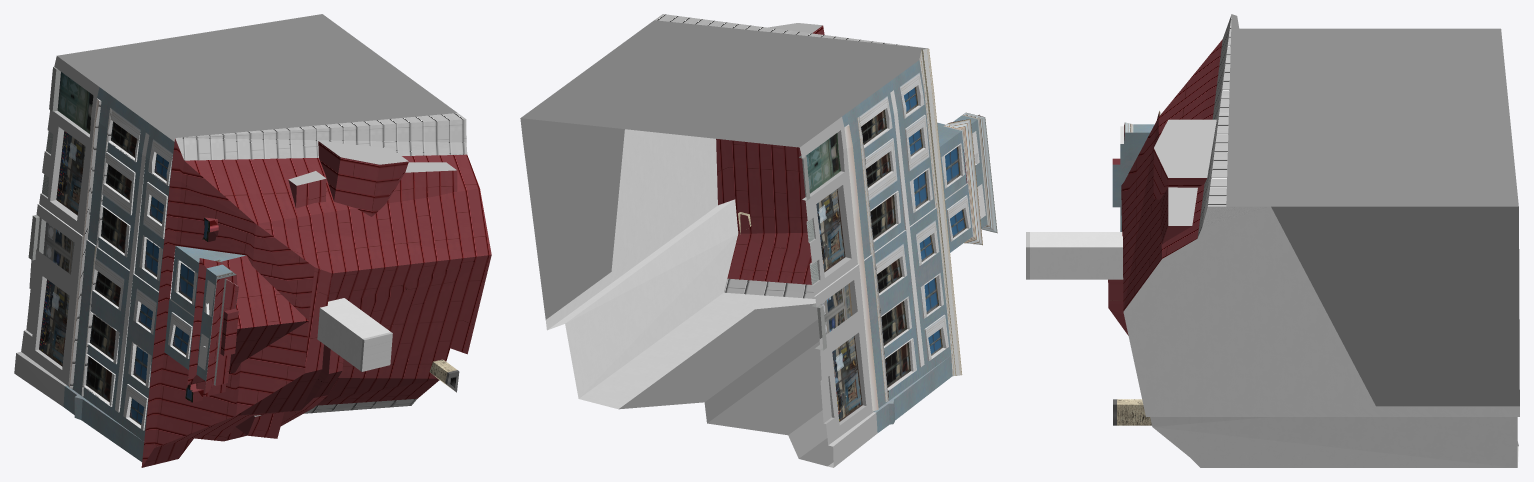
Rendered from Raekoja_Plats_17-origo.obj.
3 views of the same model, side by side, from view 1: azimuth 30°, elevation 25°; view 2: azimuth 150°, elevation 25°; view 3: azimuth 270°, elevation 25° (orthographic). The views are drawn at different scales.
Visible parts, largest first — view 1: Raekoja_Plats_17; view 2: Raekoja_Plats_17; view 3: Raekoja_Plats_17.
Part boxes in pixels (x1=…): Raekoja_Plats_17: x1=14, y1=14, x2=491, y2=467; Raekoja_Plats_17: x1=520, y1=14, x2=997, y2=467; Raekoja_Plats_17: x1=1026, y1=14, x2=1519, y2=467.
Size of the model in its own units: 15.81 by 15.5 by 19.93.
